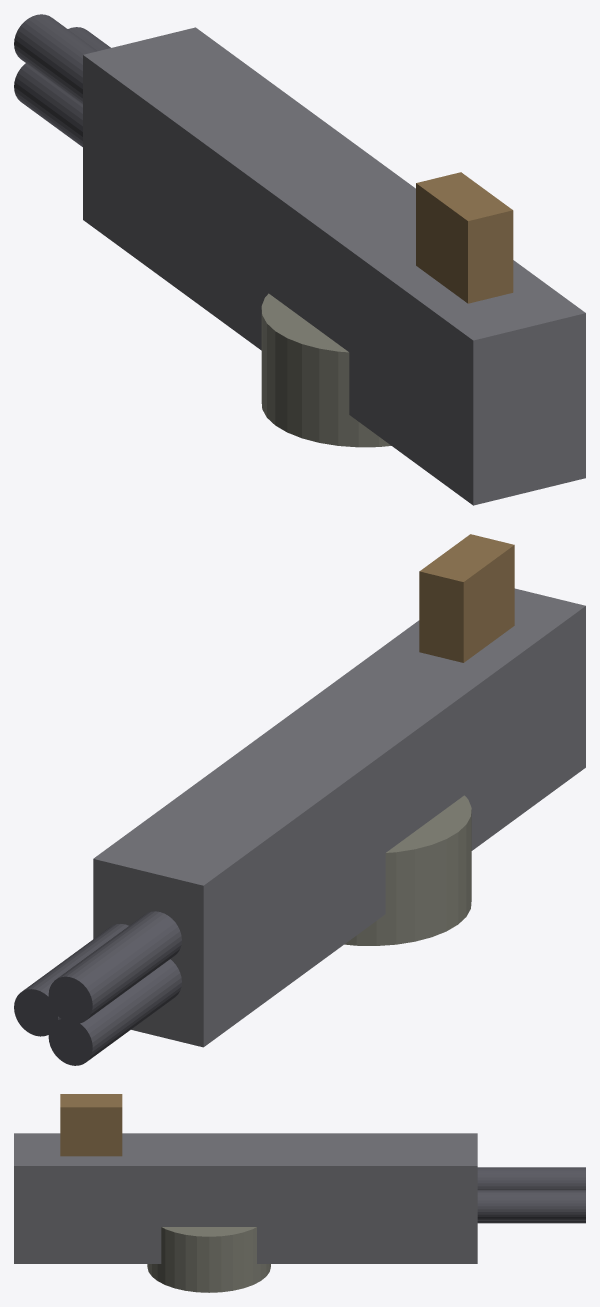
Rendered from machinegun.glb.
The picture shows the model from 3 angles, top to bottom: view 1: azimuth 30°, elevation 25°; view 2: azimuth 150°, elevation 25°; view 3: azimuth 270°, elevation 25°; orthographic projection. The views are drawn at different scales.
Parts seen in each view (by area): view 1: Cube, Cylinder.003, Cube.001, Cylinder.001, Cylinder.002; view 2: Cube, Cylinder.003, Cube.001, Cylinder.001, Cylinder.002, Cylinder; view 3: Cube, Cylinder.003, Cube.001, Cylinder, Cylinder.001, Cylinder.002.
Part boxes in pixels (left/top/right/bottom): Cube: left=83, top=27, right=585, bottom=505; Cylinder.003: left=261, top=293, right=391, bottom=447; Cube.001: left=416, top=172, right=513, bottom=303; Cylinder.001: left=14, top=14, right=97, bottom=104; Cylinder.002: left=14, top=63, right=82, bottom=146; Cube: left=93, top=588, right=585, bottom=1047; Cylinder.003: left=344, top=795, right=471, bottom=945; Cube.001: left=419, top=534, right=514, bottom=662; Cylinder.001: left=48, top=911, right=181, bottom=1023; Cylinder.002: left=48, top=959, right=181, bottom=1065; Cylinder: left=14, top=924, right=128, bottom=1036; Cube: left=14, top=1133, right=477, bottom=1263; Cylinder.003: left=147, top=1227, right=270, bottom=1292; Cube.001: left=60, top=1094, right=122, bottom=1156; Cylinder: left=477, top=1190, right=585, bottom=1220; Cylinder.001: left=477, top=1167, right=585, bottom=1189; Cylinder.002: left=477, top=1221, right=585, bottom=1223.
Size of the model in its own units: 0.1684 by 0.2495 by 0.7789.
